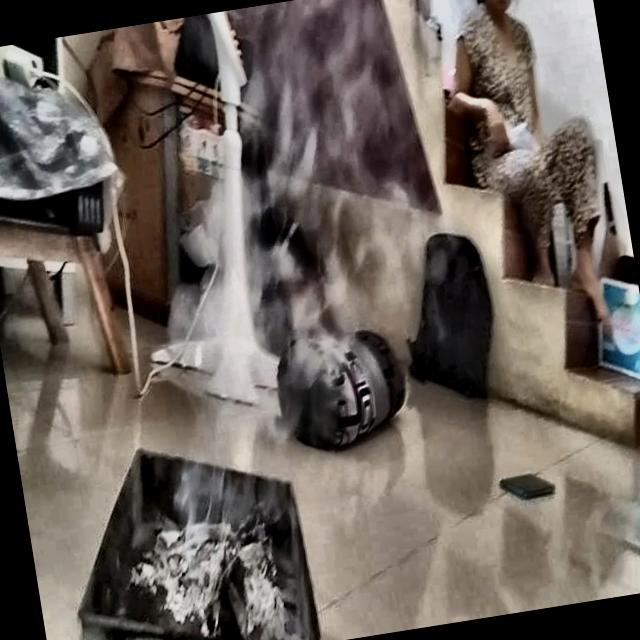smoke: (186, 48, 418, 318), (134, 351, 318, 632)
